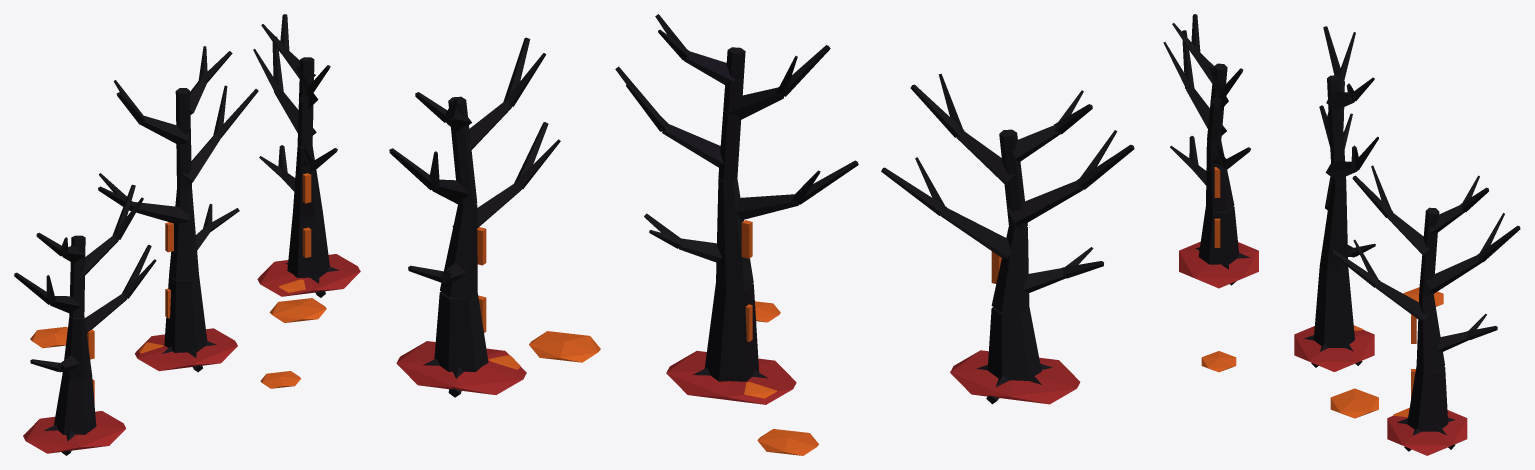
The model's file is Decor_HellGate_DeadTrees.fbx.
3 renders of one model, left to right at view 1: azimuth 30°, elevation 25°; view 2: azimuth 150°, elevation 25°; view 3: azimuth 270°, elevation 25°, orthographic. The views are drawn at different scales.
Parts seen in each view (by area): view 1: DeadTrees_Body; view 2: DeadTrees_Body; view 3: DeadTrees_Body.
Boxes of the visible parts, x1,y1,x2,y2 form: DeadTrees_Body: (14, 14, 360, 455); DeadTrees_Body: (389, 14, 1134, 455); DeadTrees_Body: (1163, 14, 1520, 455).
Bounding box in the file's own units: 23.66 × 14.13 × 15.5.
